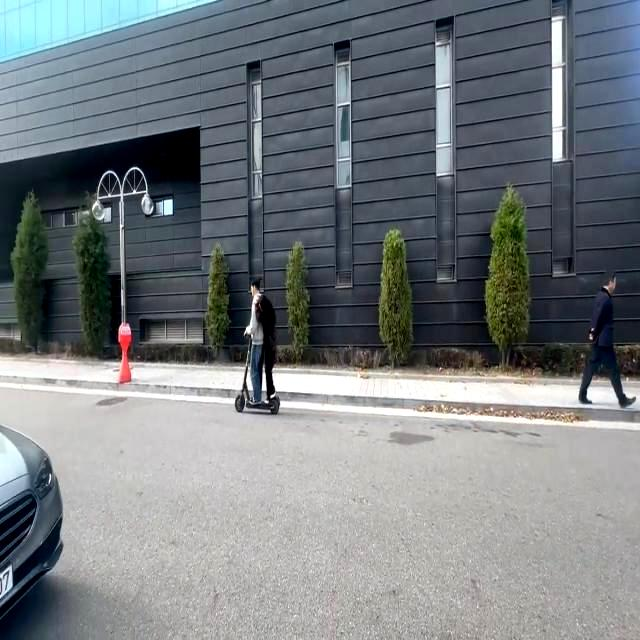bare_head: (257, 296, 271, 314), (246, 279, 259, 298)
human: (241, 279, 264, 406), (255, 294, 279, 404)
kickboard: (234, 390, 280, 416)
